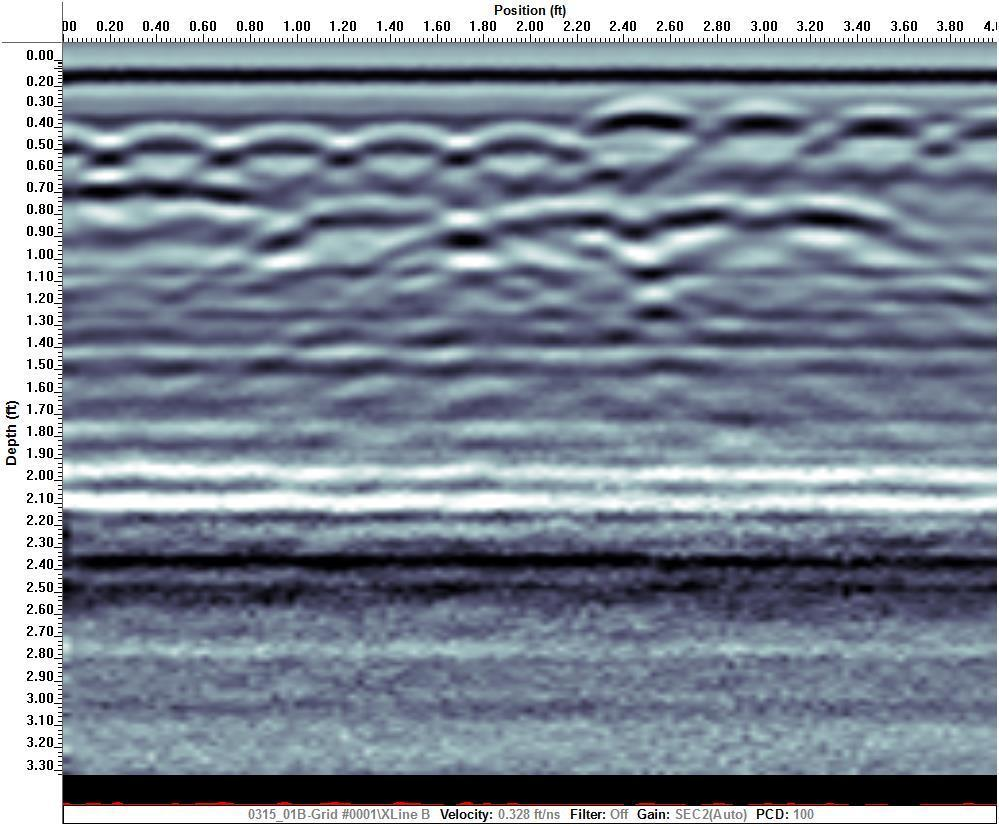hyperbola: (681, 102, 840, 191), (572, 93, 731, 182), (433, 114, 592, 203), (81, 112, 240, 201), (199, 113, 358, 202), (316, 120, 475, 209)
